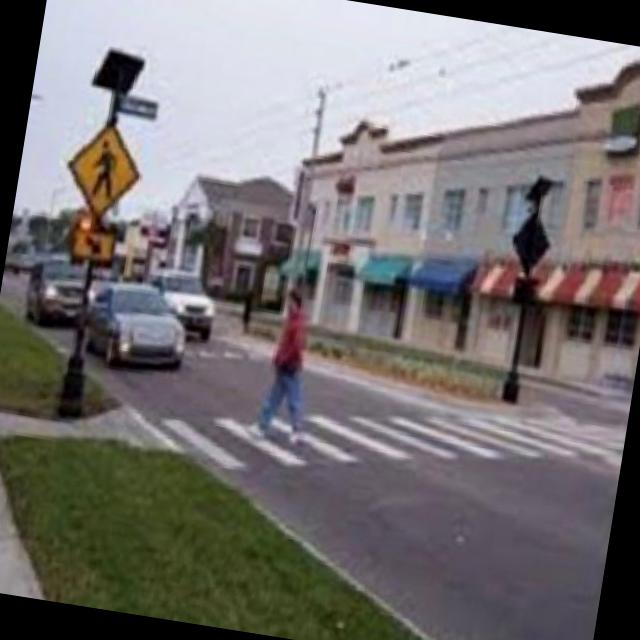Person: (238, 282, 332, 451)
